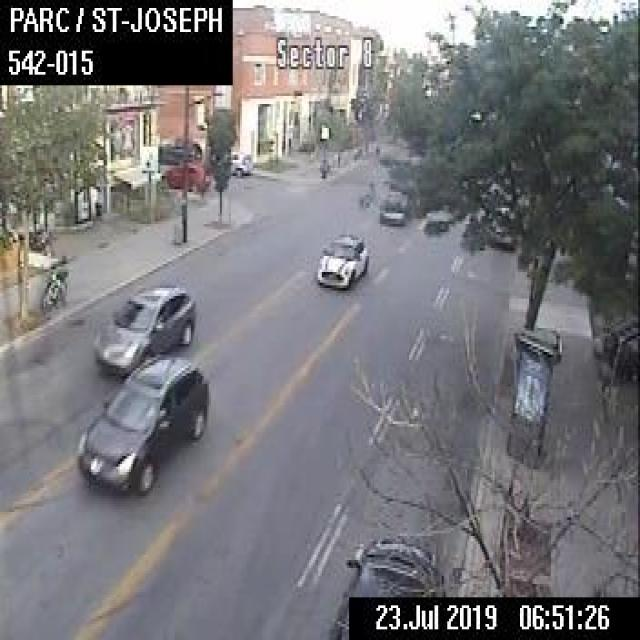pedestrian: (316, 152, 328, 181)
vehicle: (75, 352, 207, 494), (328, 531, 446, 637), (91, 284, 196, 376), (315, 230, 367, 288), (158, 159, 209, 191), (377, 186, 408, 226), (157, 136, 200, 162), (227, 147, 251, 174)
